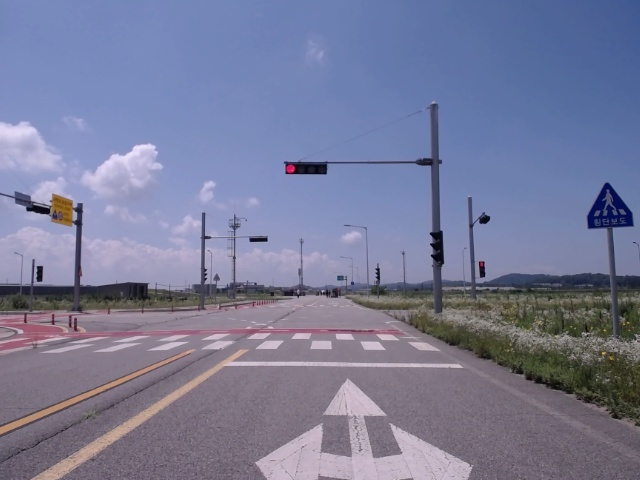red_4: (285, 163, 328, 175)
